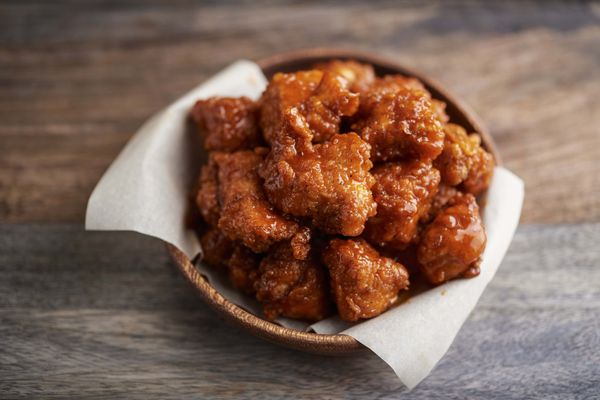curry: (2, 0, 595, 397)
